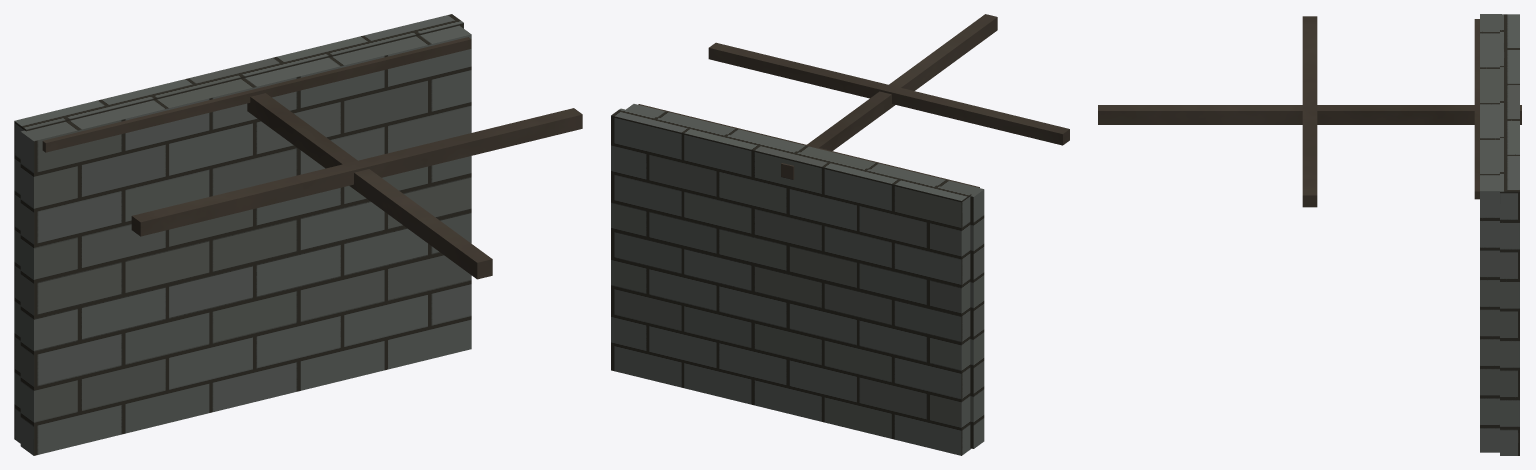
Rendered from dungeon_room_wall_vault.glb.
3 views of the same model, side by side, from view 1: azimuth 30°, elevation 25°; view 2: azimuth 150°, elevation 25°; view 3: azimuth 270°, elevation 25° (orthographic). The views are drawn at different scales.
Parts seen in each view (by area): view 1: dungeon_room_wall_vault; view 2: dungeon_room_wall_vault; view 3: dungeon_room_wall_vault.
Part boxes in pixels (bbox=[...]): dungeon_room_wall_vault: bbox=[14, 14, 582, 455]; dungeon_room_wall_vault: bbox=[611, 14, 1069, 455]; dungeon_room_wall_vault: bbox=[1098, 14, 1521, 455].
Bounding box in the file's own units: 5.05 × 3.47 × 5.05.
Materials: 1 (1 with a texture image).
